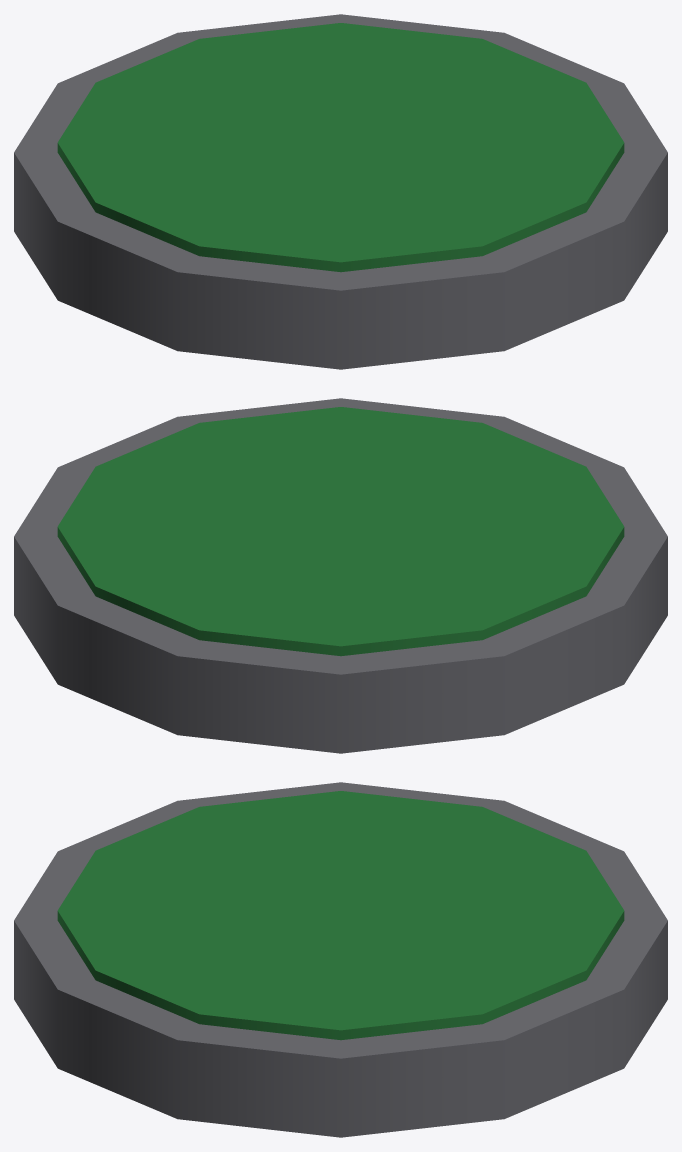
Rendered from tintero-sello.glb.
3 views of the same model, one above another, from view 1: azimuth 30°, elevation 25°; view 2: azimuth 150°, elevation 25°; view 3: azimuth 270°, elevation 25° (orthographic).
Parts seen in each view (by area): view 1: tintero-sello; view 2: tintero-sello; view 3: tintero-sello.
Part boxes in pixels (box(x1,y1,x2,y2)): tintero-sello: box(14, 14, 667, 369); tintero-sello: box(14, 398, 667, 753); tintero-sello: box(14, 782, 667, 1137).
Size of the model in its own units: 0.12 by 0.018 by 0.12.
